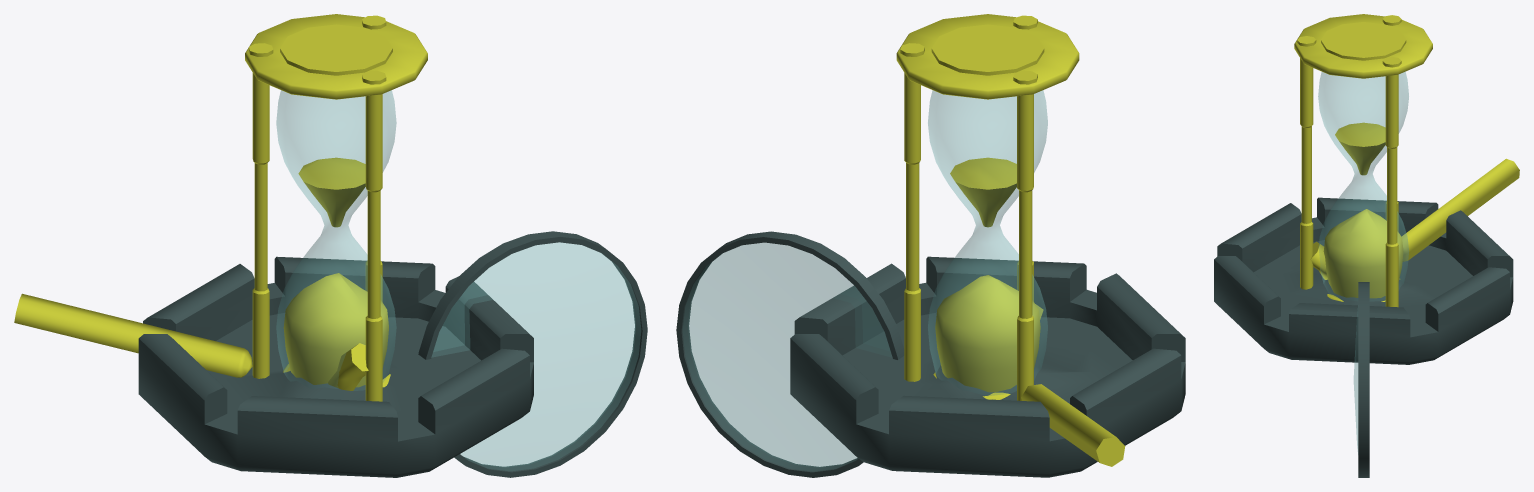
The model's file is Set_b_Model.fbx.
The picture shows the model from 3 angles, left to right: view 1: azimuth 30°, elevation 25°; view 2: azimuth 150°, elevation 25°; view 3: azimuth 270°, elevation 25°; orthographic projection. The views are drawn at different scales.
Visible parts, largest first — view 1: AshtrayDetail1, HourGlassDetail2, MagnifierDetail1, HourGlassDetail1, MagnifierDetail2, AshtrayDetail2; view 2: AshtrayDetail1, HourGlassDetail2, MagnifierDetail1, HourGlassDetail1, MagnifierDetail2, AshtrayDetail2; view 3: AshtrayDetail1, HourGlassDetail2, HourGlassDetail1, AshtrayDetail2, MagnifierDetail2, MagnifierDetail1.
Boxes of the visible parts, left/top/right/bottom form: AshtrayDetail1: left=138, top=256, right=533, bottom=477; HourGlassDetail2: left=245, top=14, right=427, bottom=401; MagnifierDetail1: left=432, top=242, right=640, bottom=470; HourGlassDetail1: left=276, top=90, right=396, bottom=390; MagnifierDetail2: left=418, top=231, right=647, bottom=477; AshtrayDetail2: left=14, top=293, right=252, bottom=377; AshtrayDetail1: left=790, top=256, right=1185, bottom=477; HourGlassDetail2: left=896, top=14, right=1079, bottom=400; MagnifierDetail1: left=683, top=243, right=891, bottom=471; HourGlassDetail1: left=928, top=90, right=1047, bottom=395; MagnifierDetail2: left=676, top=231, right=904, bottom=477; AshtrayDetail2: left=1021, top=384, right=1125, bottom=466; AshtrayDetail1: left=1214, top=197, right=1513, bottom=364; HourGlassDetail2: left=1294, top=14, right=1432, bottom=307; HourGlassDetail1: left=1318, top=72, right=1408, bottom=301; AshtrayDetail2: left=1402, top=158, right=1519, bottom=261; MagnifierDetail2: left=1358, top=282, right=1369, bottom=477; MagnifierDetail1: left=1354, top=311, right=1357, bottom=448.
Size of the model in its own units: 24.16 by 20.29 by 15.76.
